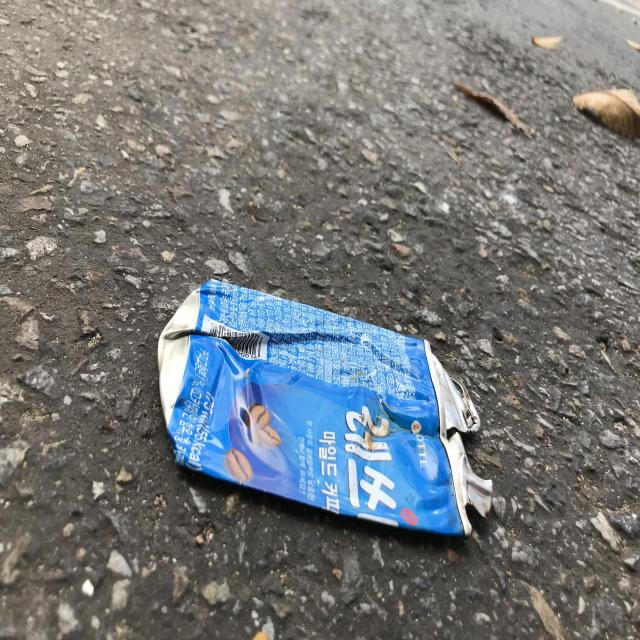can: (157, 280, 493, 537)
